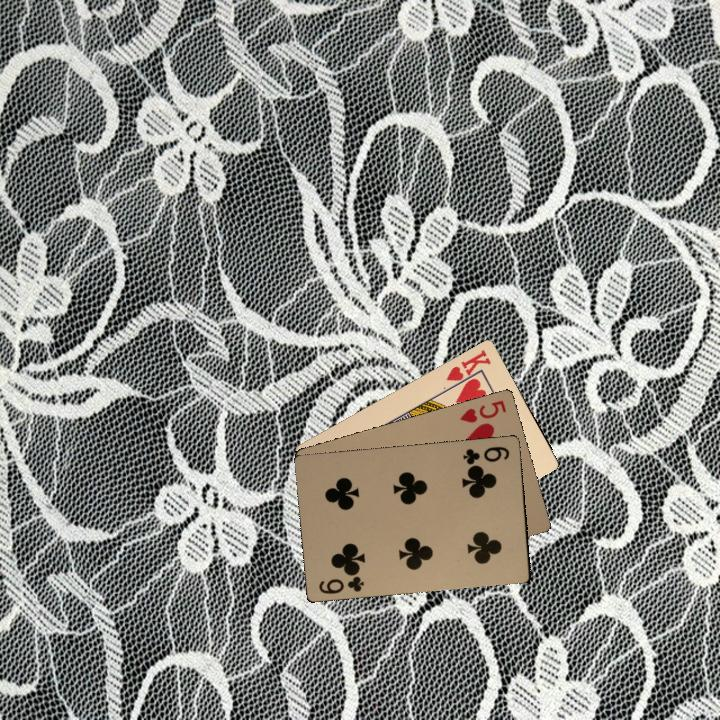5h: (455, 396, 509, 425)
6c: (315, 567, 367, 596), (459, 442, 512, 468)
Kh: (442, 345, 494, 391)
